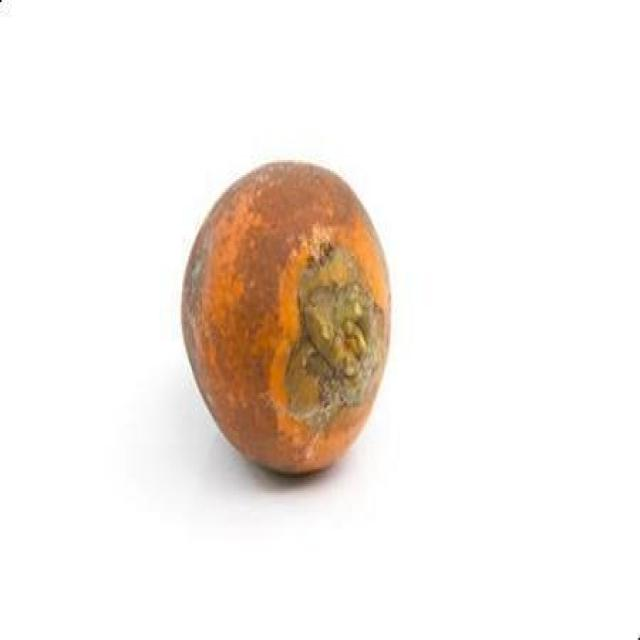good: (183, 162, 390, 469)
